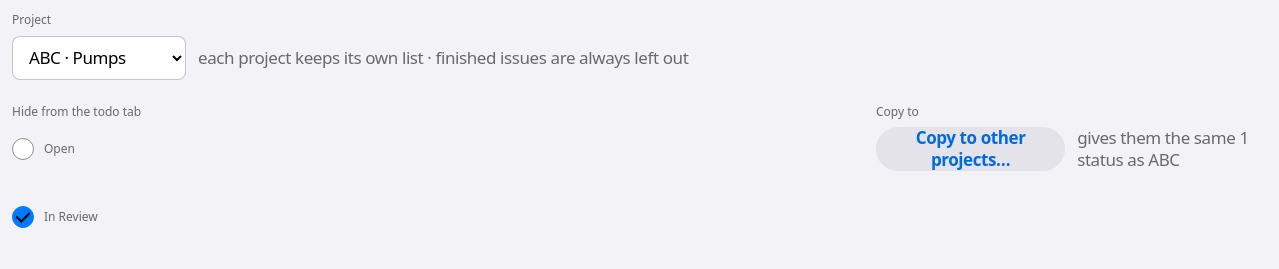
Scenario: copying to other projects › copies the current list to the ticked projects
Expected: the checkbox labelled "Open" is shown, [12,138,34,160]
Click the button "Copy to other projects…".
click(971, 149)  # box [876,127,1065,171]
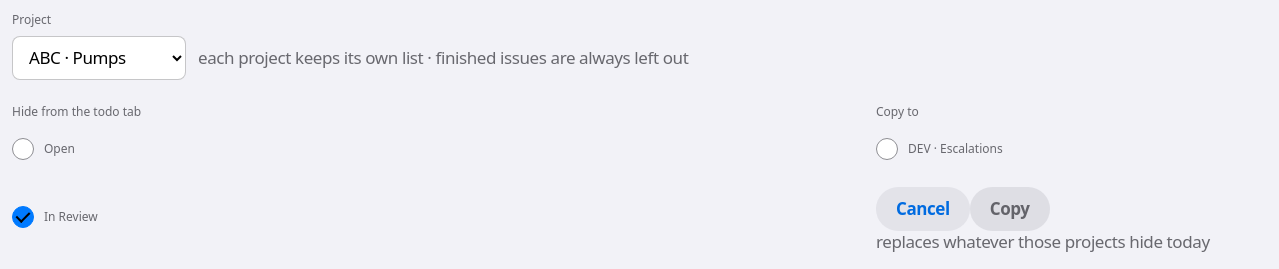
Click the checkbox labelled "DEV · Escalations".
click(887, 149)  # box [876,138,898,160]
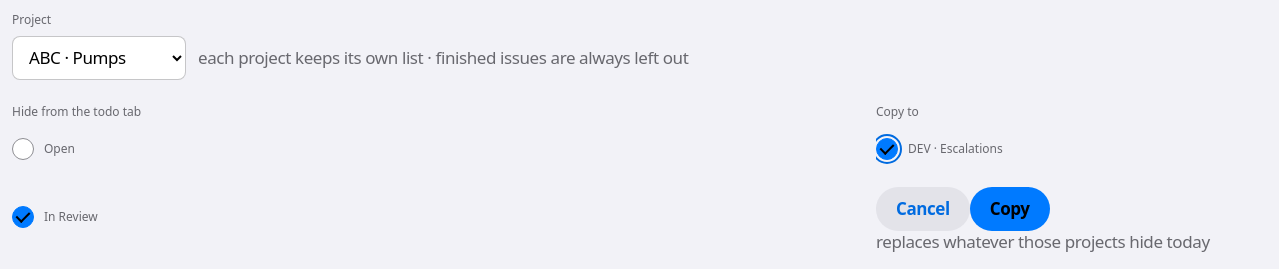
Click the button "Copy".
click(1010, 209)  # box [970,187,1050,231]
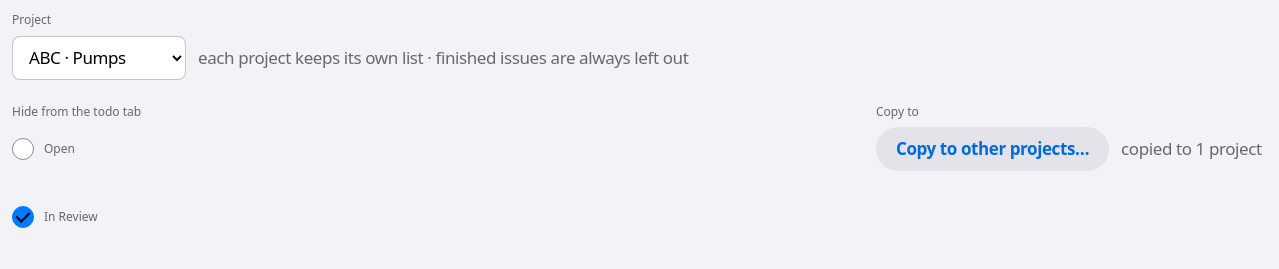
Expected: the text "copied to 1 project" is shown, [1121,138,1262,160]
